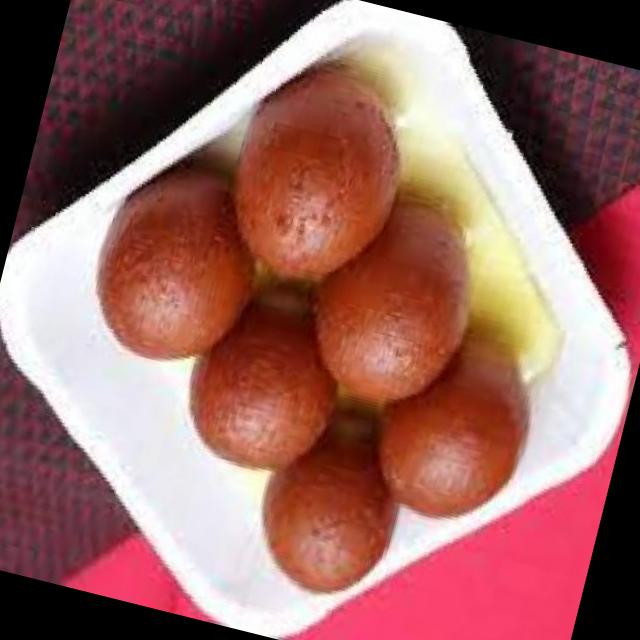gulab_jamun: (214, 50, 420, 298), (79, 140, 280, 376), (296, 184, 492, 419), (362, 313, 548, 533), (174, 269, 359, 483), (243, 398, 420, 608)
